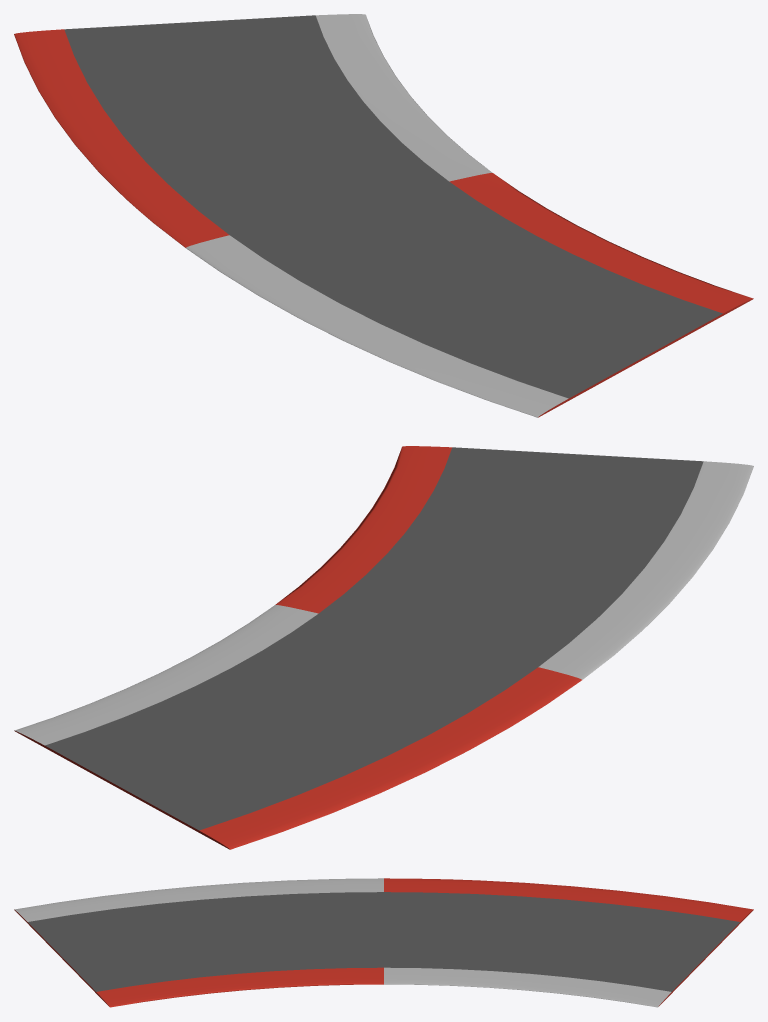
Rendered from VirageXL.fbx.
3 renders of one model, top to bottom at view 1: azimuth 30°, elevation 25°; view 2: azimuth 150°, elevation 25°; view 3: azimuth 270°, elevation 25°, orthographic. The views are drawn at different scales.
Parts seen in each view (by area): view 1: Body16; view 2: Body16; view 3: Body16.
Boxes of the visible parts, x1,y1,x2,y2 form: Body16: [14, 14, 753, 417]; Body16: [14, 446, 753, 849]; Body16: [14, 878, 753, 1007].
Bounding box in the file's own units: 17.04 × 0.1 × 41.33.
